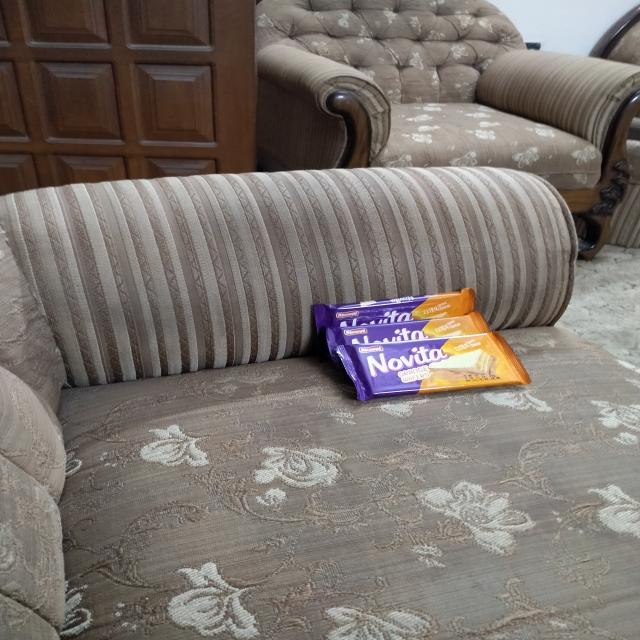Plastic: (339, 344, 531, 402), (315, 288, 478, 320), (322, 324, 489, 338)
